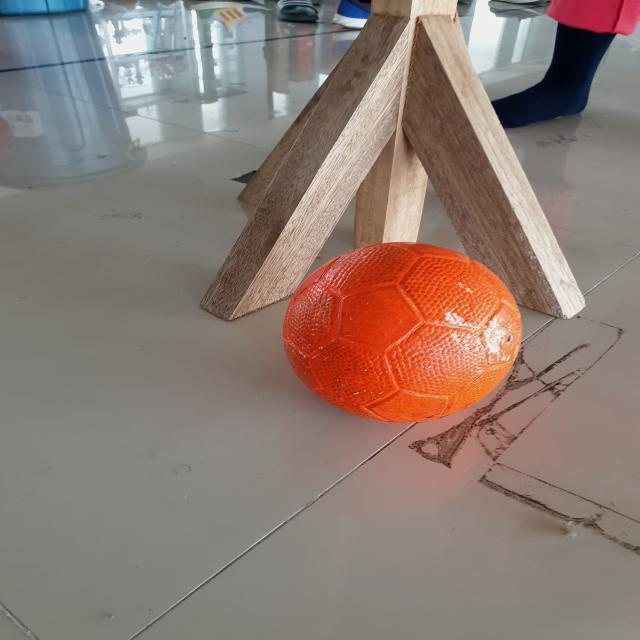bola: (280, 236, 530, 424)
